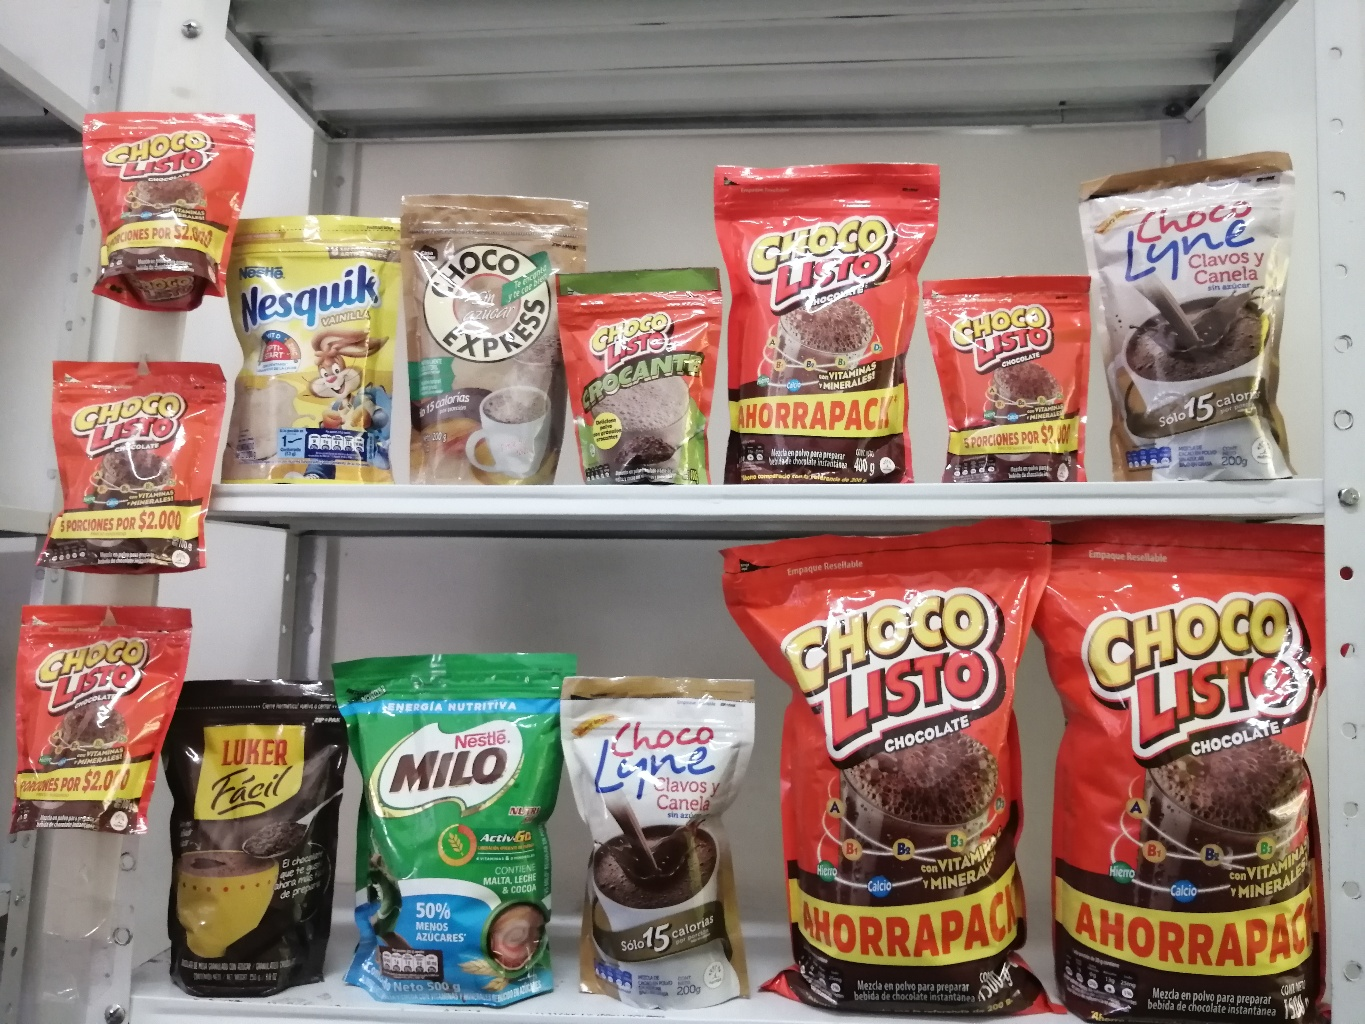COL0170102DYP10000: (556, 269, 722, 488)
COL0170103DYP1,500: (1027, 520, 1332, 1022)
COL0170103DYP10000: (82, 104, 256, 310)
COL0170103DYP40000: (716, 162, 937, 487)
COL0170205DYP50000: (333, 653, 569, 1008)
COL0170306DYP20000: (213, 214, 408, 486)
